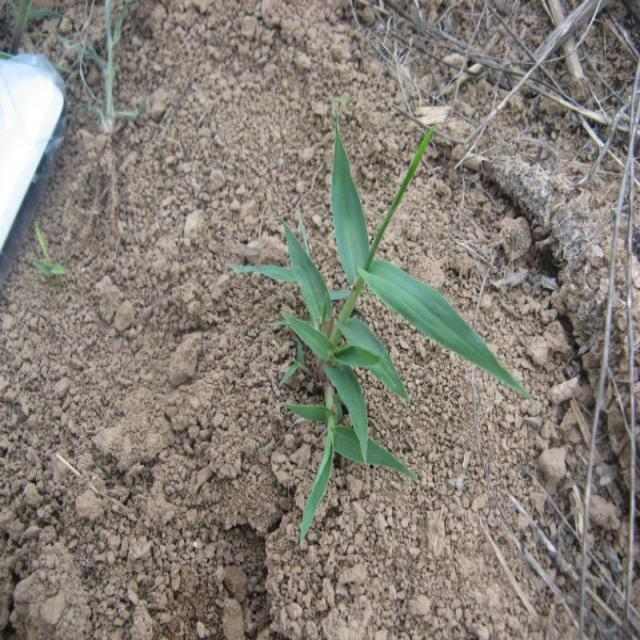bg: (253, 115, 521, 532)
